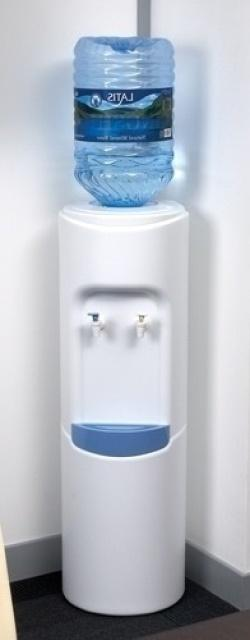Dispenser: (58, 36, 189, 616)
